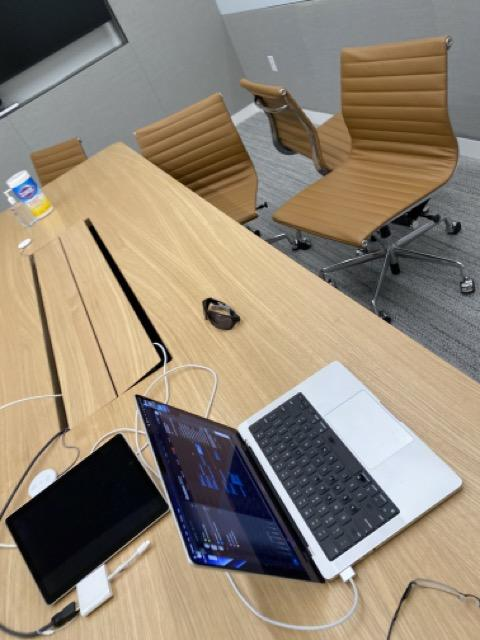Sunglasses: (202, 296, 242, 332)
